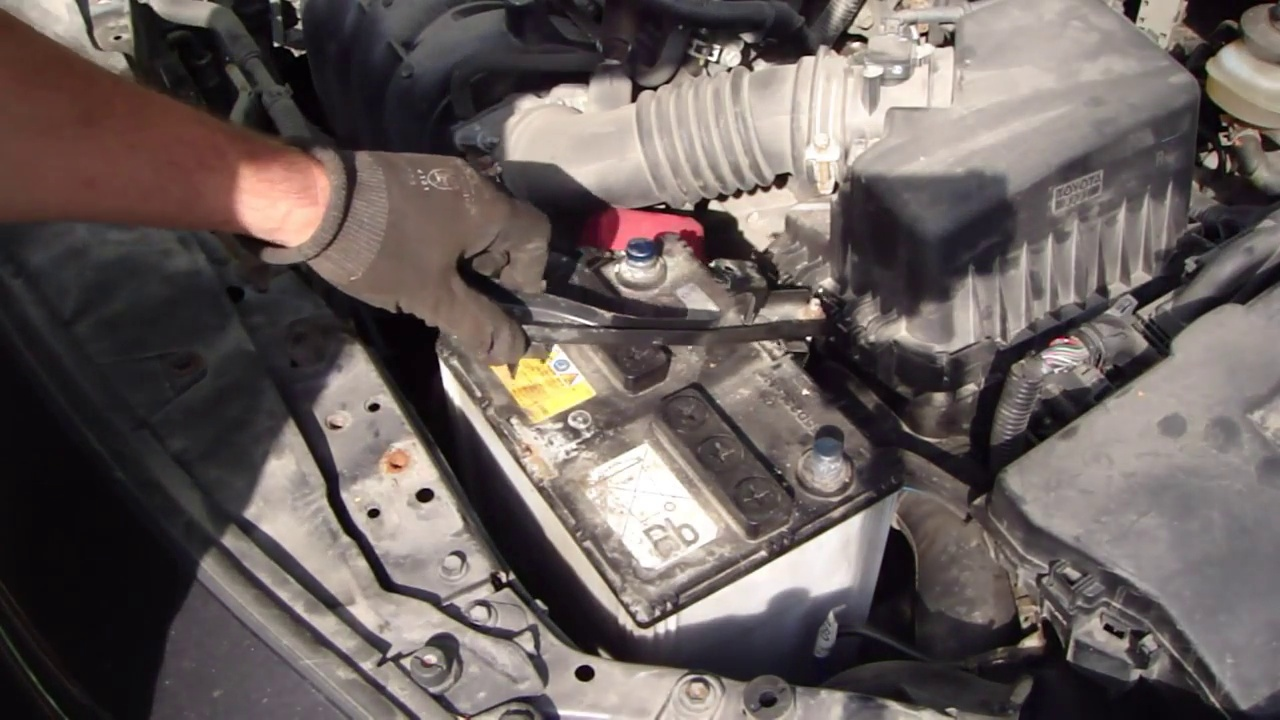battery: (437, 221, 898, 609)
neg_disconnected: (762, 397, 863, 510)
pos_disconnected: (571, 190, 720, 292)
